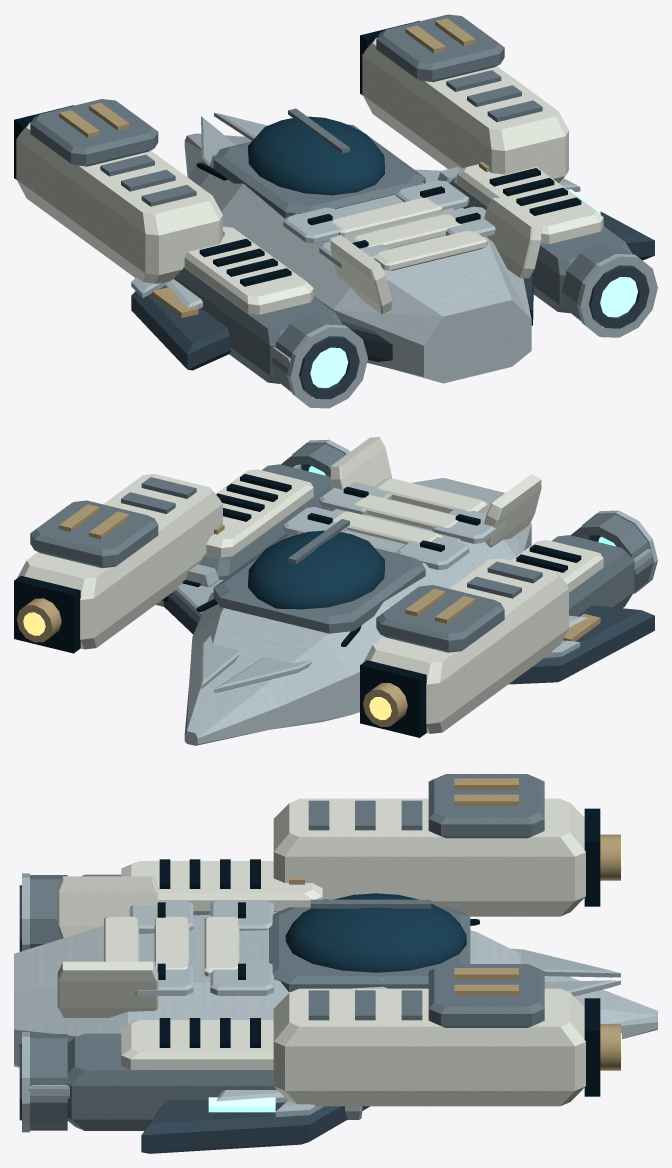
File: missile.glb
3 renders of one model, top to bottom at view 1: azimuth 30°, elevation 25°; view 2: azimuth 150°, elevation 25°; view 3: azimuth 270°, elevation 25°, orthographic. The views are drawn at different scales.
Parts seen in each view (by area): view 1: _MeshInstance3D_234; view 2: _MeshInstance3D_234; view 3: _MeshInstance3D_234.
Part boxes in pixels (x1=…): _MeshInstance3D_234: x1=14, y1=14, x2=657, y2=408; _MeshInstance3D_234: x1=14, y1=437, x2=657, y2=745; _MeshInstance3D_234: x1=14, y1=774, x2=657, y2=1153.
Bounding box in the file's own units: 0.235 × 0.077 × 0.2496.
Materials: 1 (1 with a texture image).
